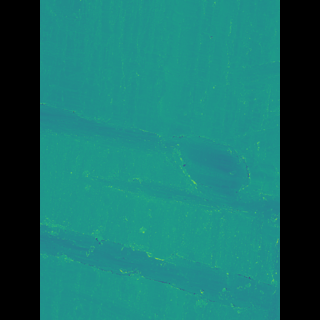Loch: (70, 0, 250, 246), (70, 207, 249, 319)
